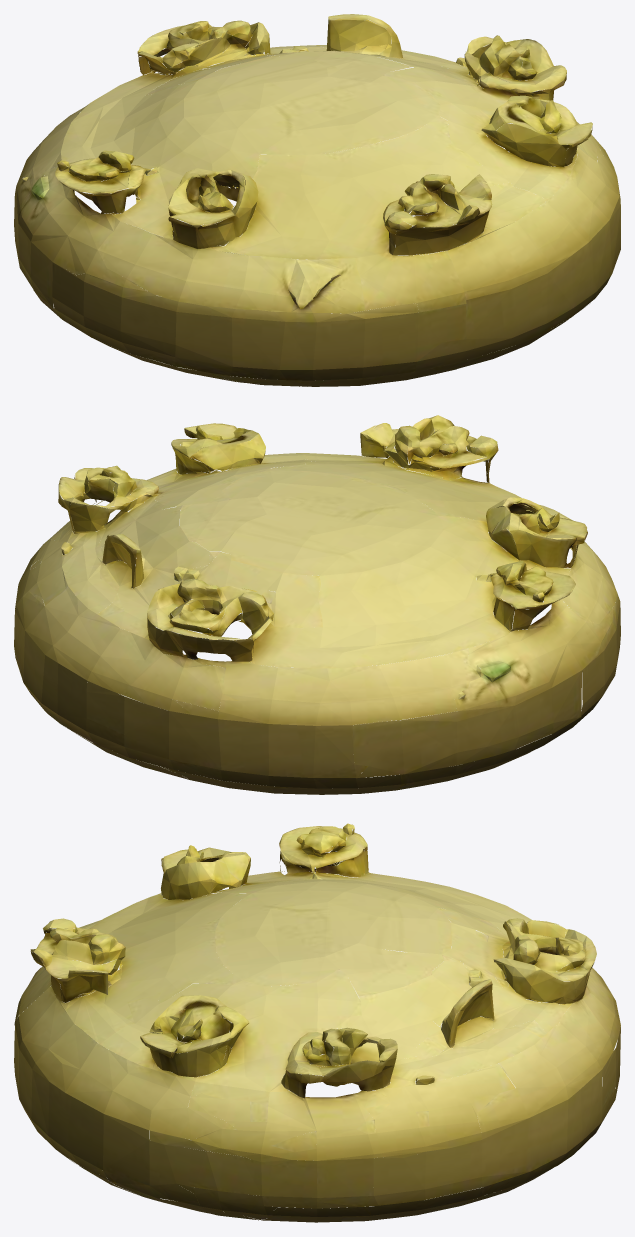
3 views of the same model, one above another, from view 1: azimuth 30°, elevation 25°; view 2: azimuth 150°, elevation 25°; view 3: azimuth 270°, elevation 25° (orthographic). The views are drawn at different scales.
Visible parts, largest first — view 1: world; view 2: world; view 3: world.
Boxes of the visible parts, <box> form: world: <box>14,14,620,386</box>; world: <box>14,415,620,794</box>; world: <box>14,823,620,1222</box>.
Size of the model in its own units: 1 by 0.3571 by 0.9686.
1 material, 1 textured.
